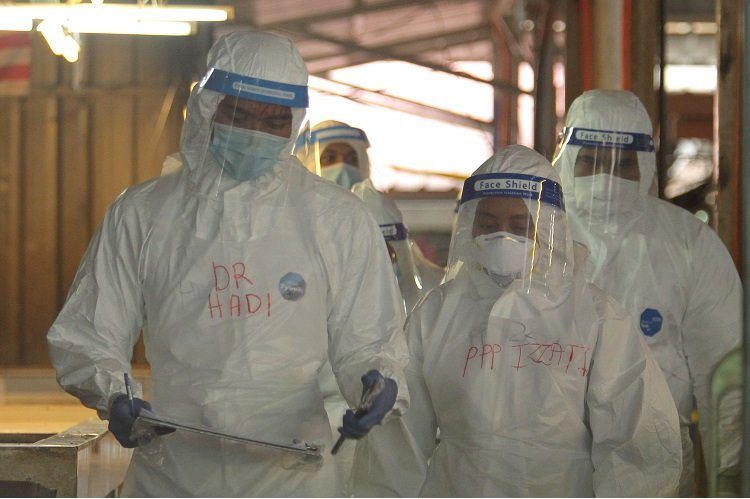Coverall: (40, 27, 412, 499), (354, 140, 686, 499), (533, 87, 750, 477)
Face_Shield: (183, 69, 309, 211), (453, 170, 571, 318), (560, 122, 659, 254), (373, 218, 430, 304), (305, 124, 371, 197)
Gloves: (336, 362, 403, 452), (103, 387, 157, 454)
with_mask: (213, 100, 295, 185), (476, 202, 539, 276), (576, 150, 639, 221), (321, 147, 364, 194)
